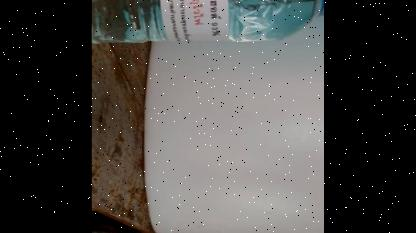Plastic Bottle: (92, 0, 324, 42)
